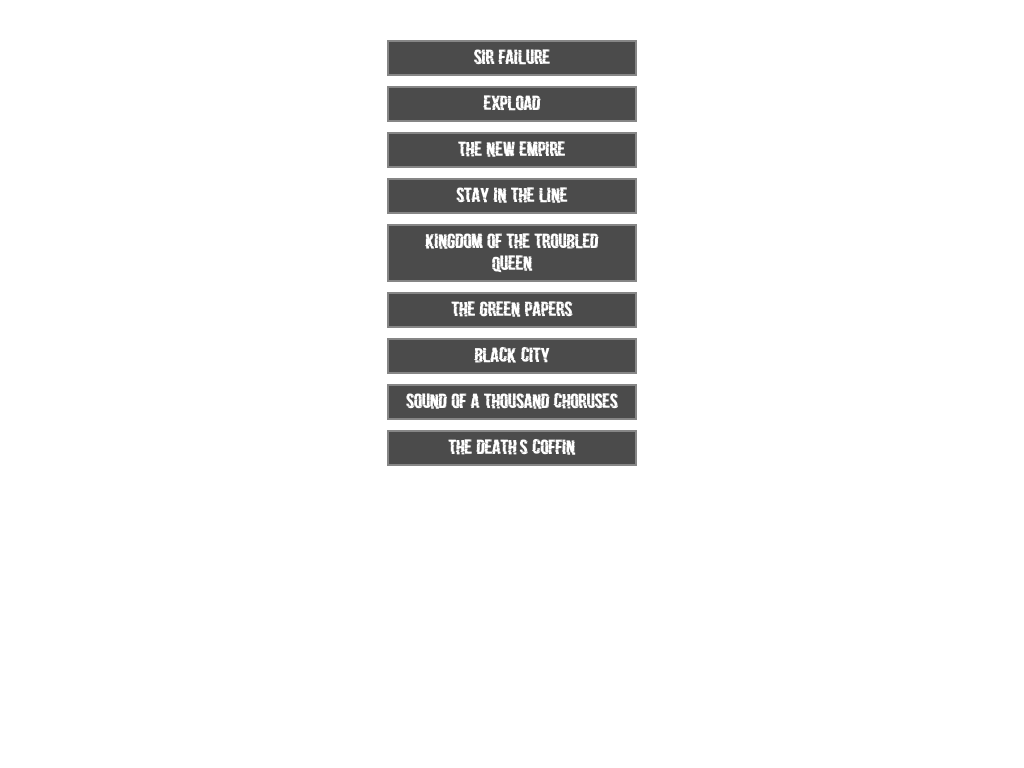
Scenario: Lyrics Component Test Suites › display all the lyrics when a song is selected
This screenshot has width=1024, height=768.
Click the menu item "Sir Failure" at [512, 58], box [387,40,637,76]
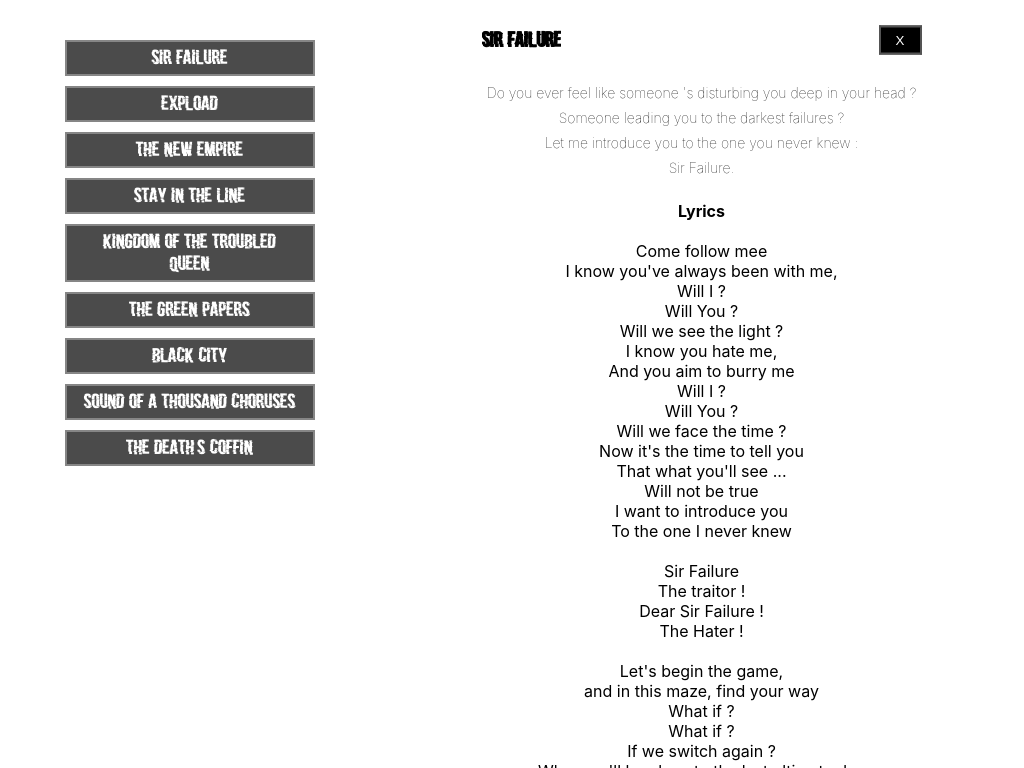
Check: the text "Come follow mee" is shown, box [636,240,767,260]
Check: the text "I know you've always been with me," is shown, box [565,260,838,280]
Check: the text "Will we see the light ?" is shown, box [620,320,783,340]
